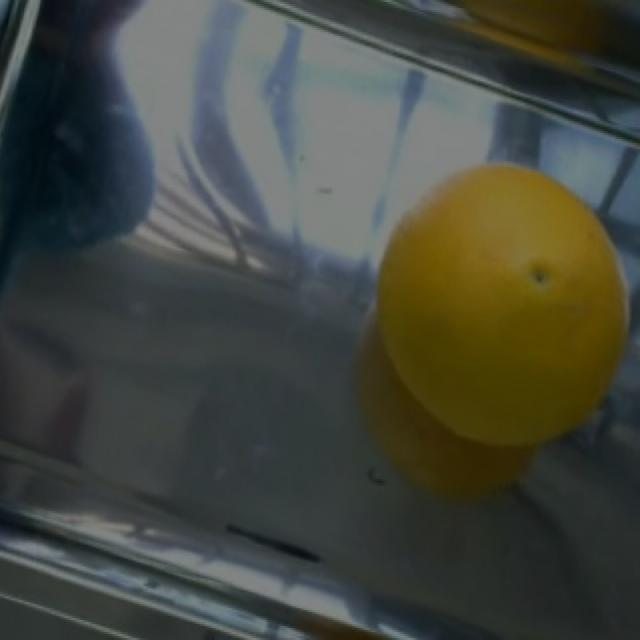Fruit: (344, 139, 633, 443)
